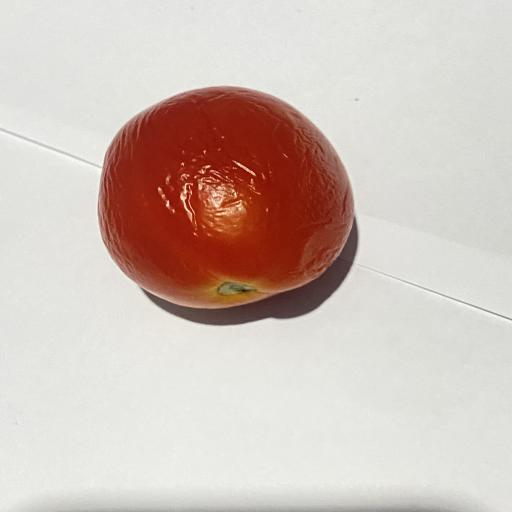spoiled: (99, 87, 354, 308)
